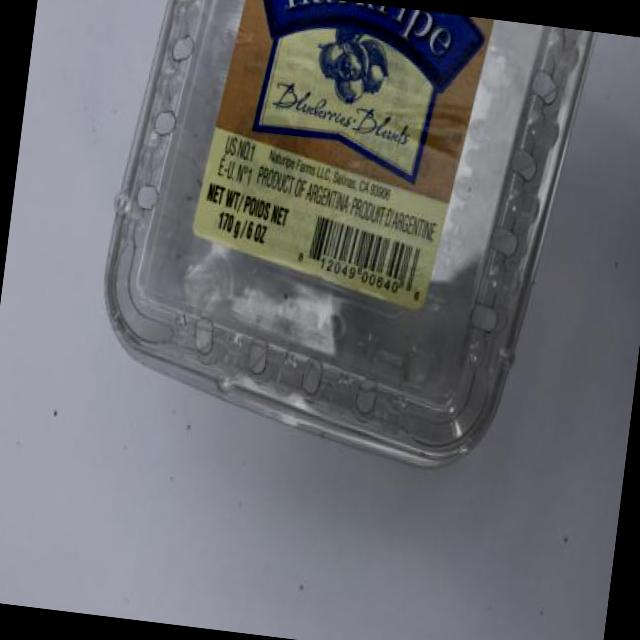Trash: (81, 0, 593, 490)
